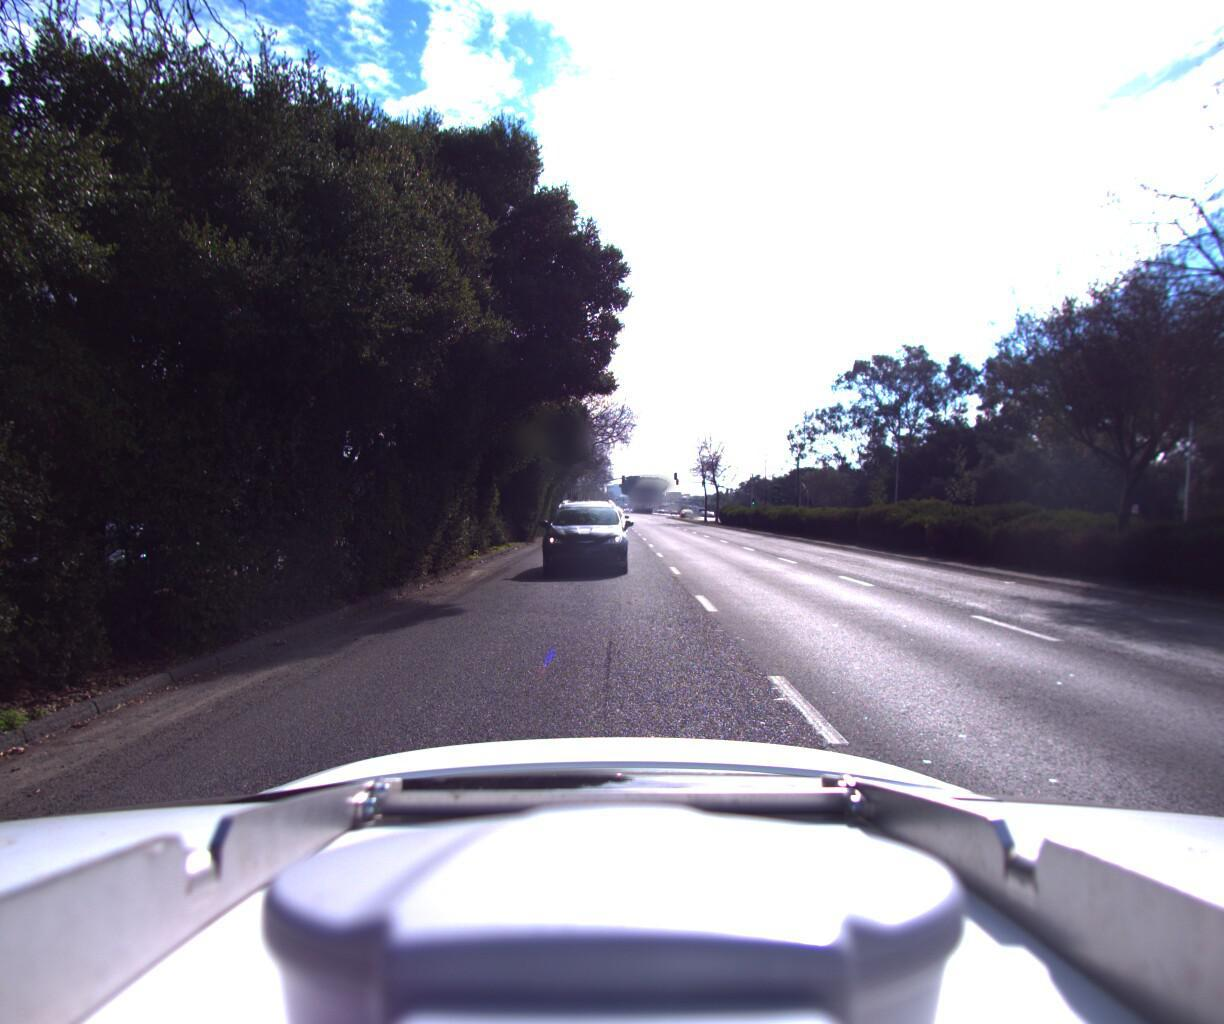car: (537, 496, 629, 578)
